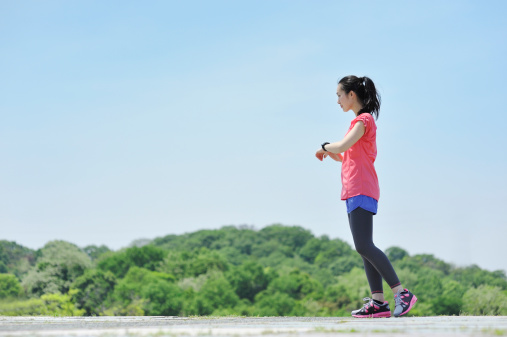em pe: (299, 57, 402, 321)
